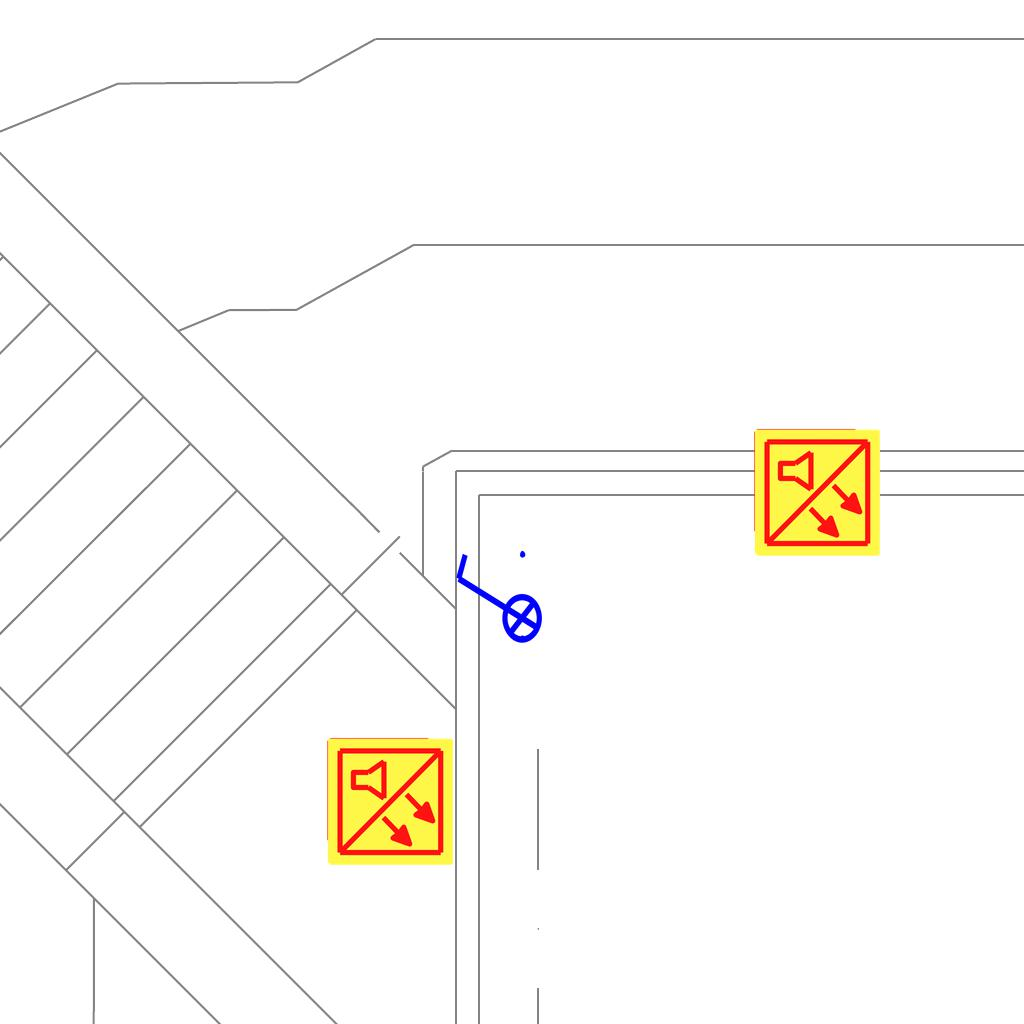Ausschalter_beleuchtet: (448, 545, 544, 657)
OKW_Multisensormelder_(Kombination_optischer_Rauch-Kahlenmonoxid_Waerme-Melder): (324, 736, 456, 868), (751, 427, 883, 559)
